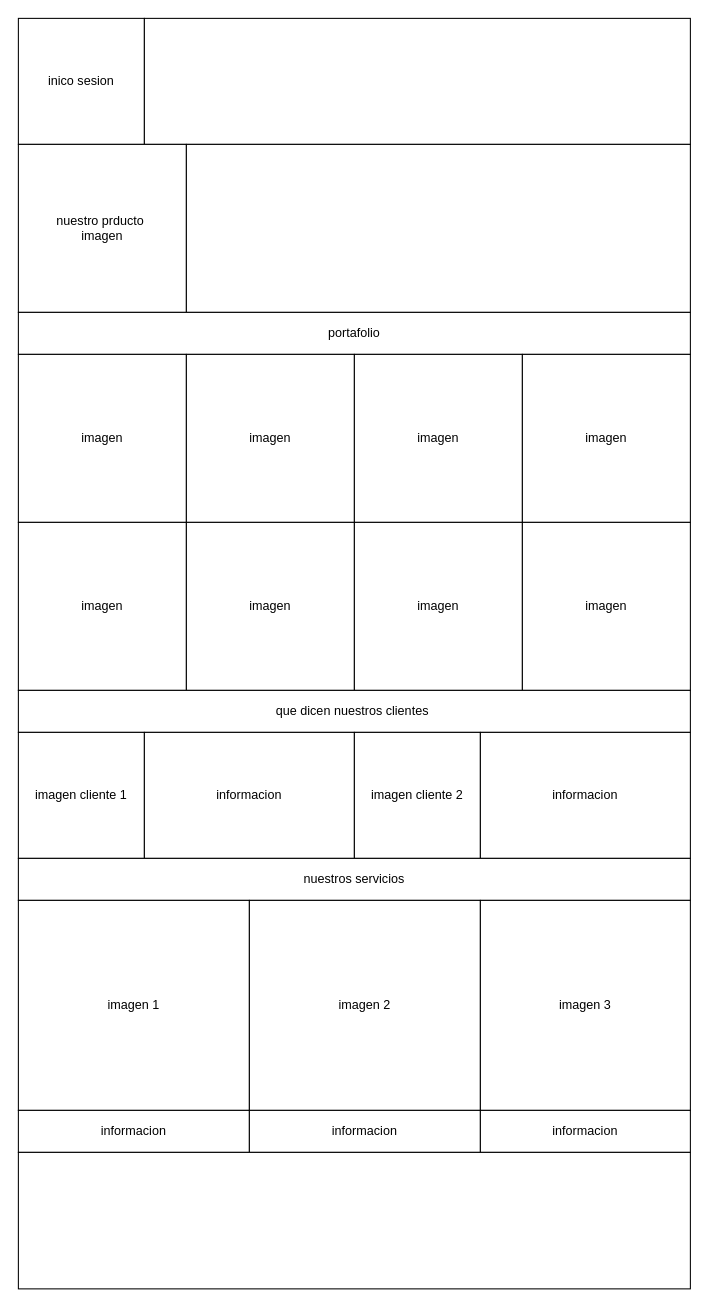
This 709x1307 diagram has some shape labels left out. Each missing label, with the centre of its shape:
footer: (353,1220)
header: (416,80)
nuestro producto informacion 1 informacion 2: (437,227)
